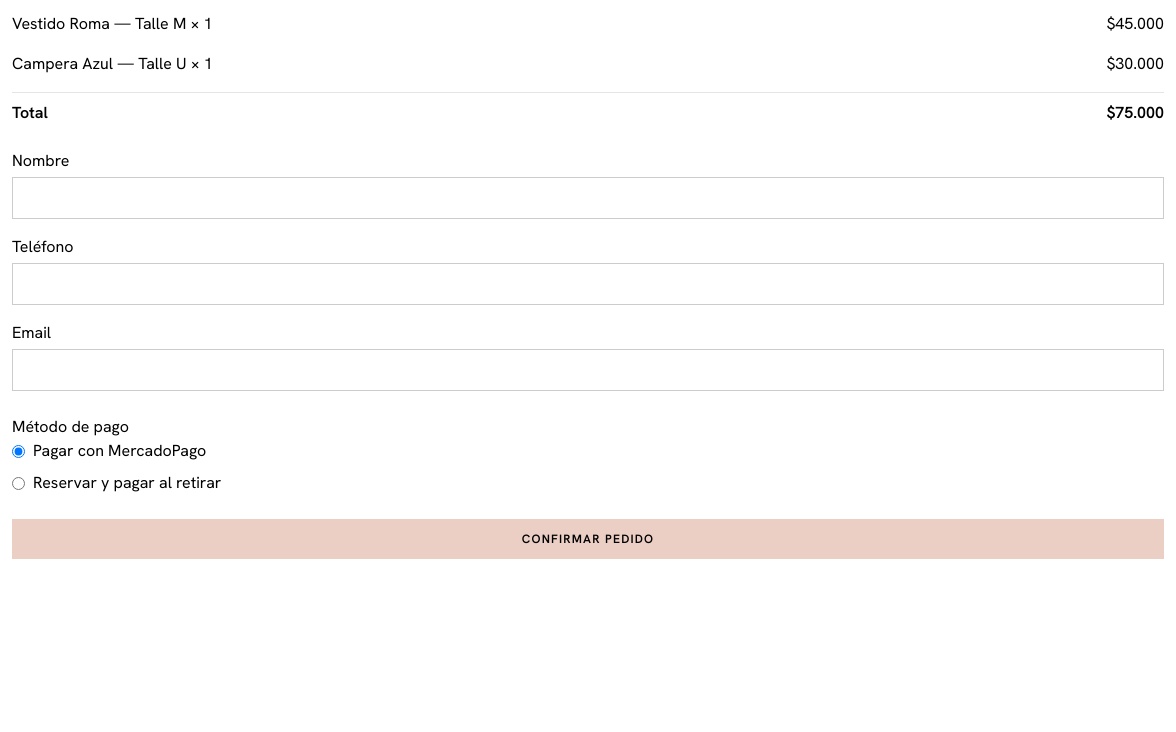
Test case: CheckoutForm › names the specific affected line(s) when a returned variantId matches a known line
The image size is (1176, 732).
Type "Ana Pérez" into the field labelled "Nombre" at x=588, y=198, box top-left (12, 177), bottom-right (1164, 219)
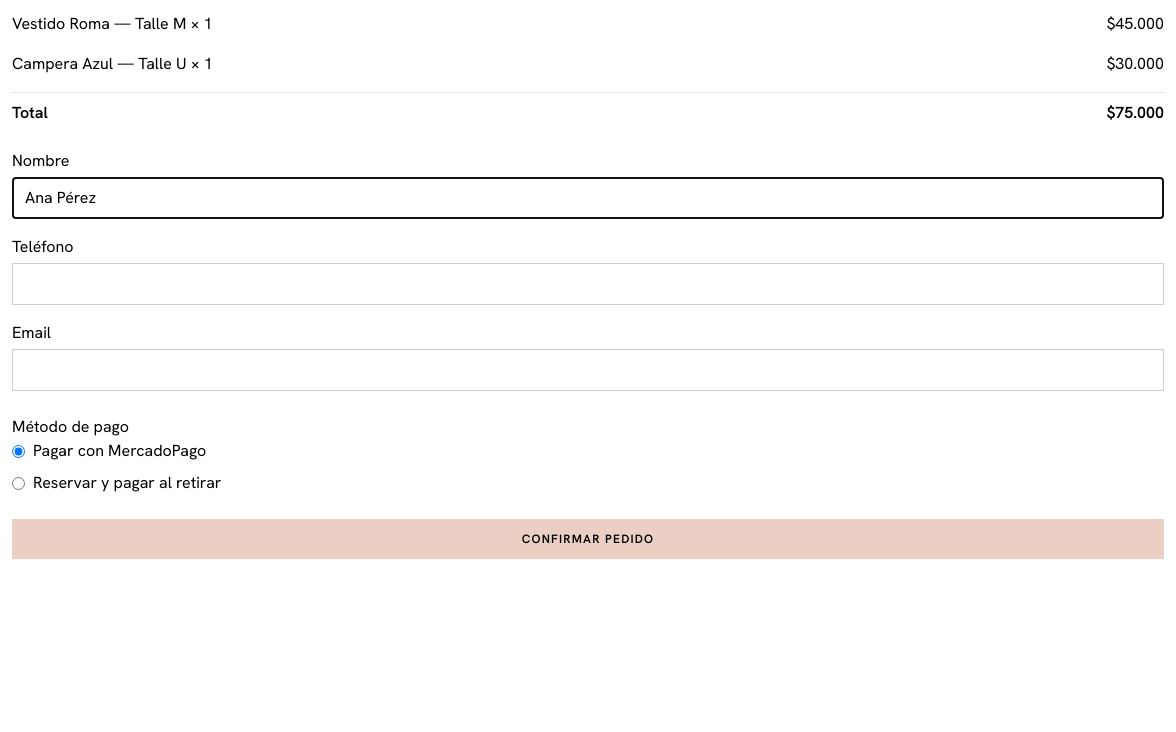
Type "3815551234" into the field labelled "Teléfono" at x=588, y=284, box top-left (12, 263), bottom-right (1164, 305)
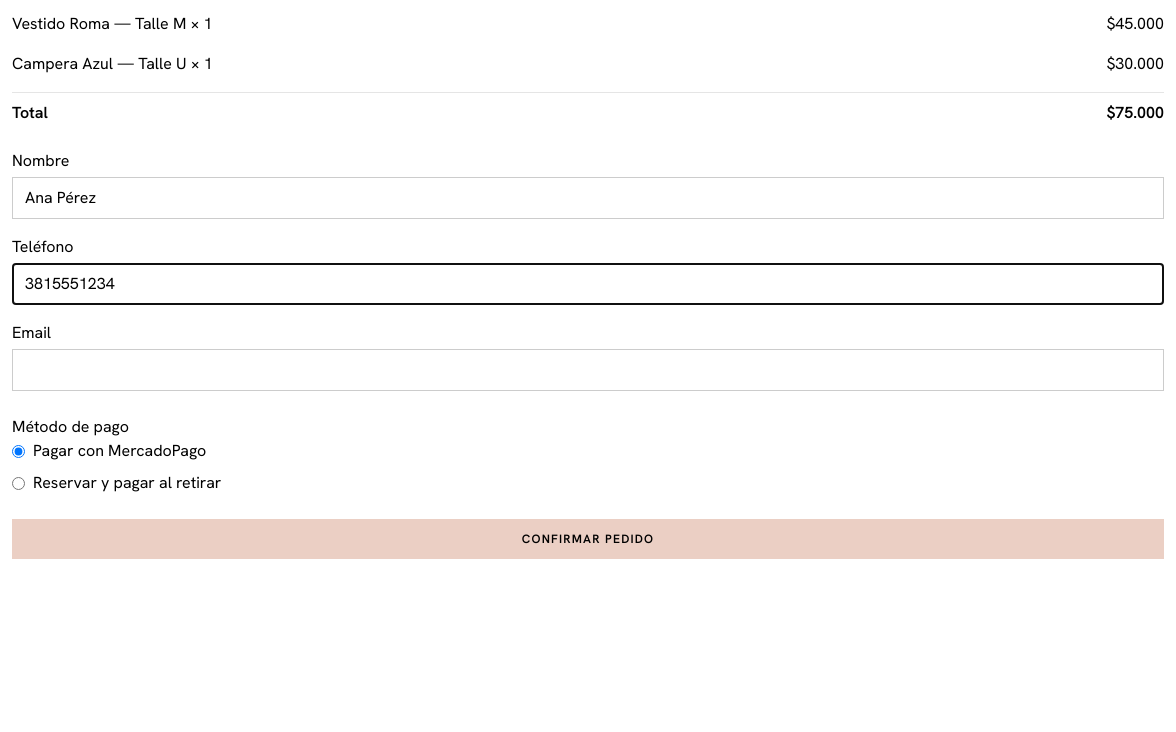
Type "ana@example.com" into the field labelled "Email" at x=588, y=370, box top-left (12, 349), bottom-right (1164, 391)
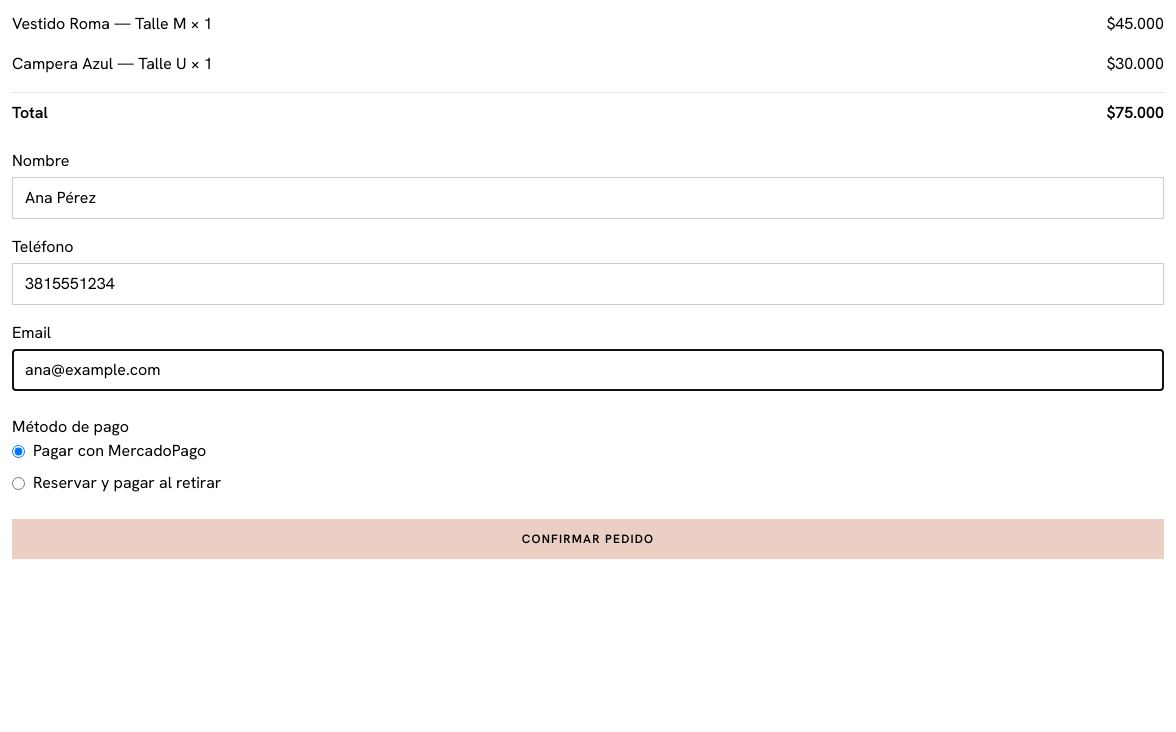
Click the radio button labelled "Pagar con MercadoPago" at x=18, y=451, box top-left (12, 444), bottom-right (25, 458)
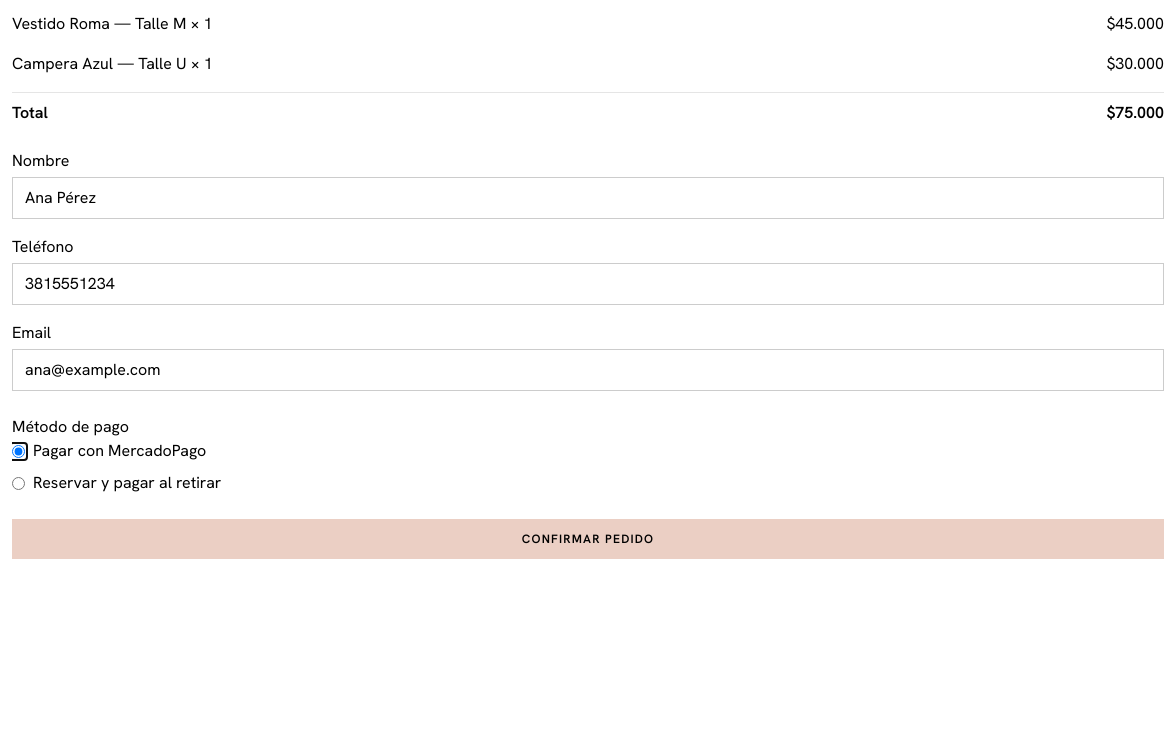
Click the button "Confirmar pedido" at x=588, y=539, box top-left (12, 519), bottom-right (1164, 559)
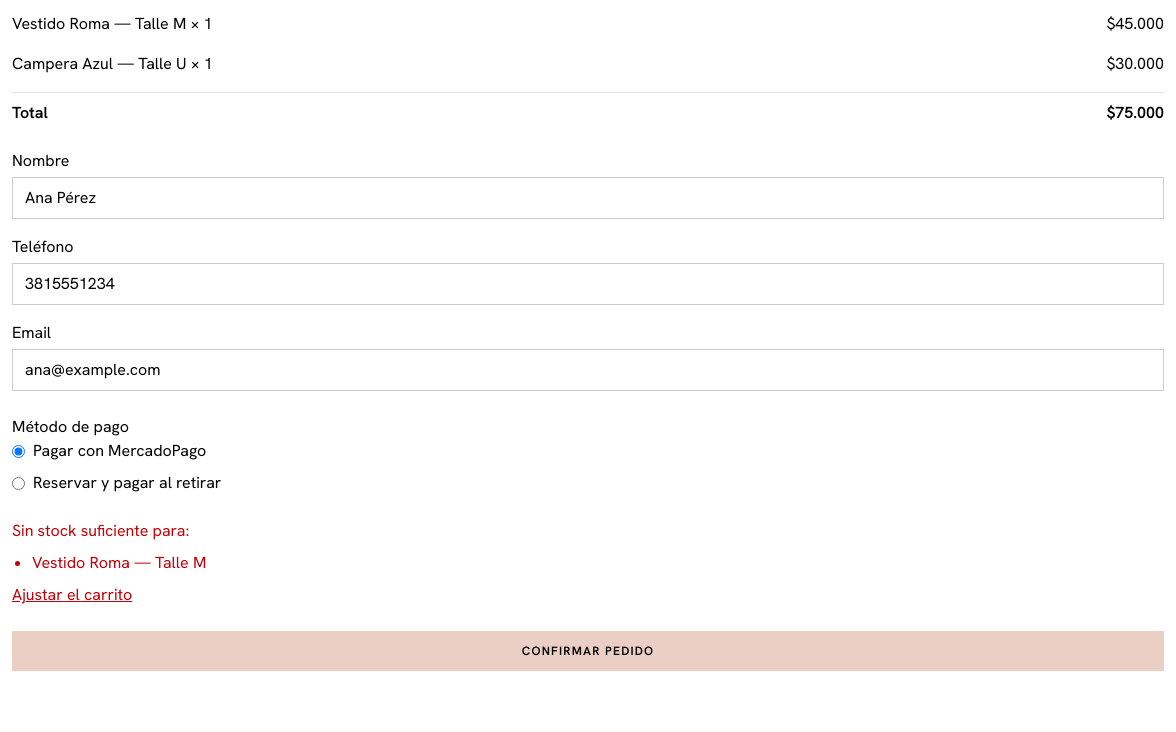
Expected: the list item "Vestido Roma — Talle M" is shown, top-left (32, 552), bottom-right (206, 573)
